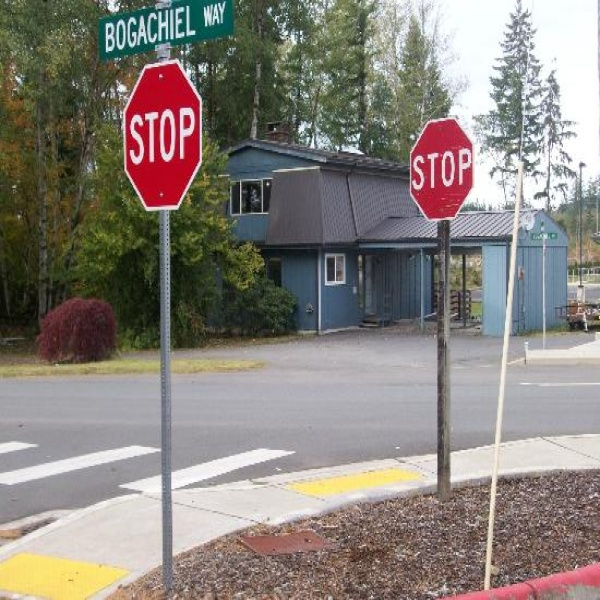stop: (116, 61, 208, 217), (406, 118, 474, 221)
